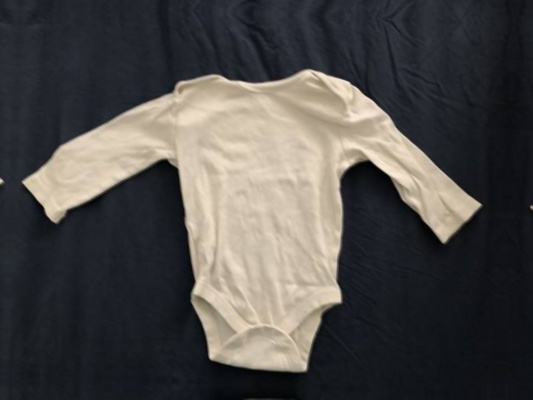Body: (10, 32, 486, 390), (0, 378, 471, 400), (0, 11, 14, 369), (526, 55, 533, 400)
